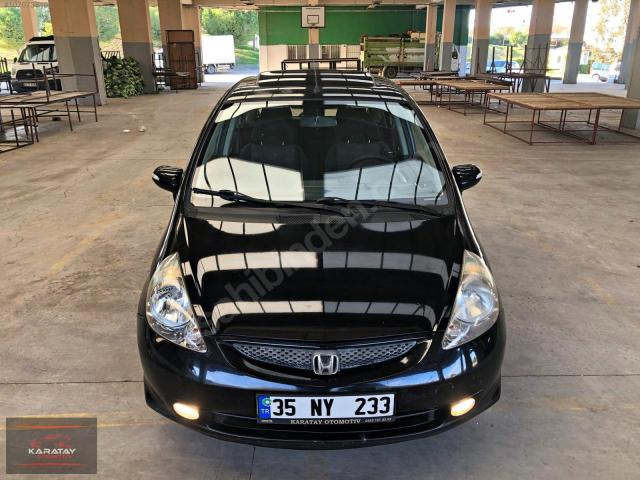plaka: (258, 394, 395, 424)
